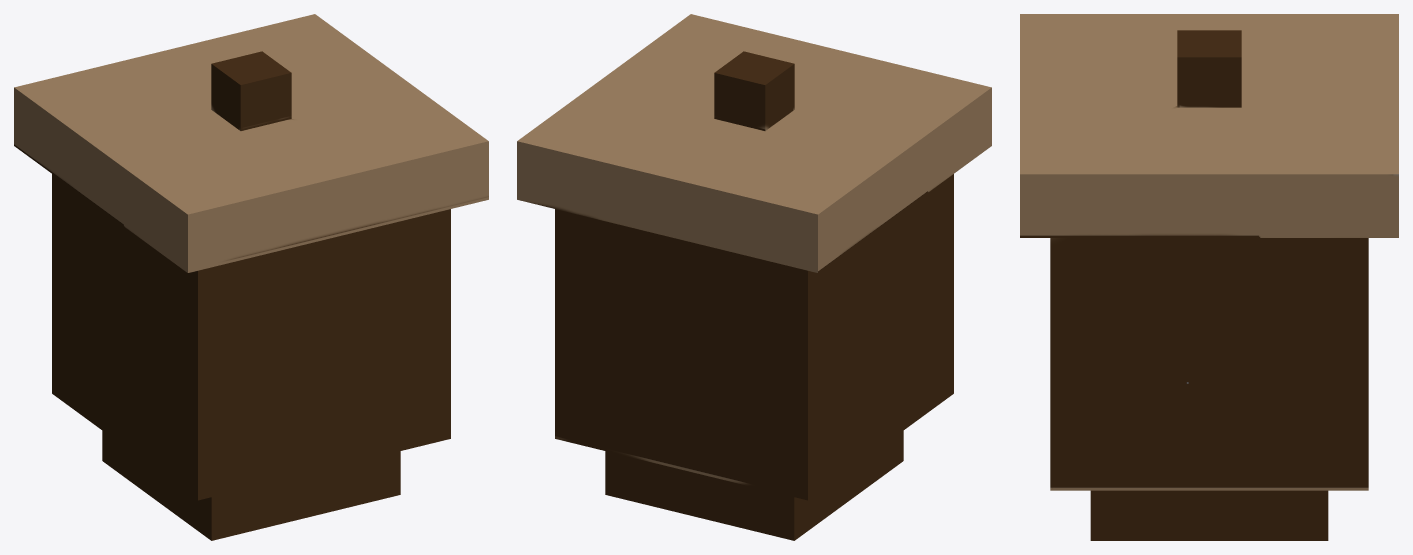
The model's file is acorn.glb.
The picture shows the model from 3 angles, left to right: view 1: azimuth 30°, elevation 25°; view 2: azimuth 150°, elevation 25°; view 3: azimuth 270°, elevation 25°; orthographic projection. The views are drawn at different scales.
Visible parts, largest first — view 1: Cube; view 2: Cube; view 3: Cube.
Part boxes in pixels (x1=…): Cube: x1=14, y1=14, x2=488, y2=540; Cube: x1=517, y1=14, x2=991, y2=540; Cube: x1=1020, y1=14, x2=1398, y2=540.
Bounding box in the file's own units: 2 × 2.6 × 2.
1 material, 1 textured.
